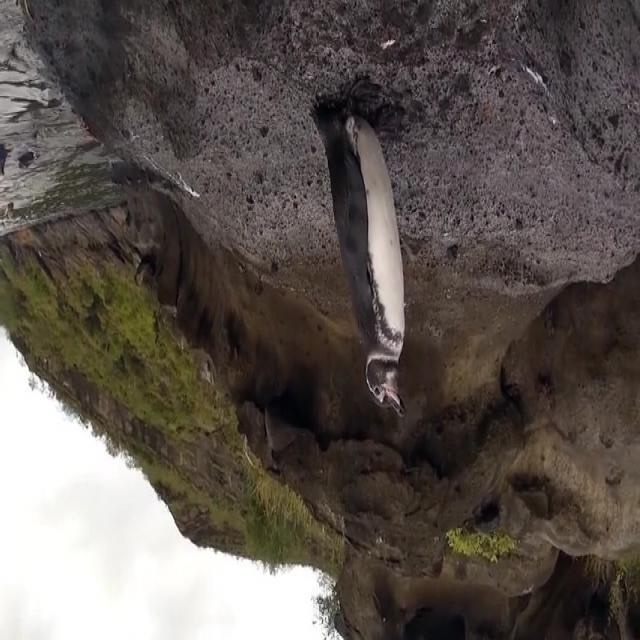penguin: (310, 77, 408, 418)
